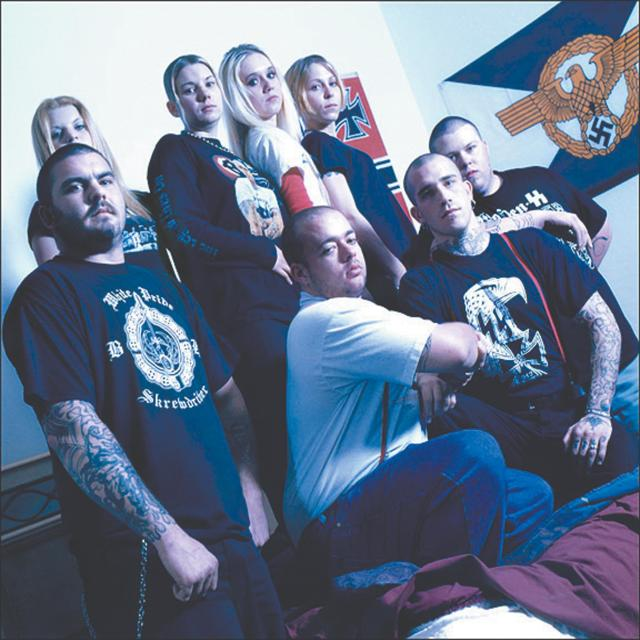body: (1, 142, 296, 640), (279, 204, 555, 569), (395, 152, 639, 504), (147, 55, 298, 562), (400, 113, 615, 417), (282, 55, 423, 295), (26, 96, 169, 272), (218, 42, 333, 216)
